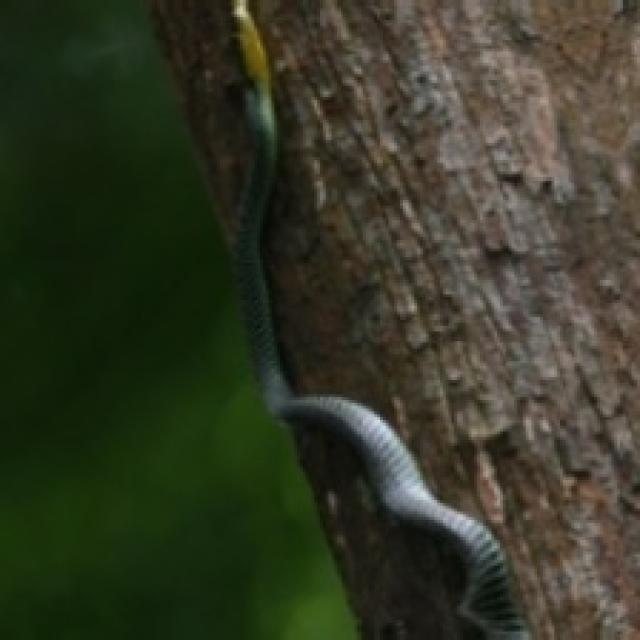paradise tree snake: (231, 0, 529, 637)
